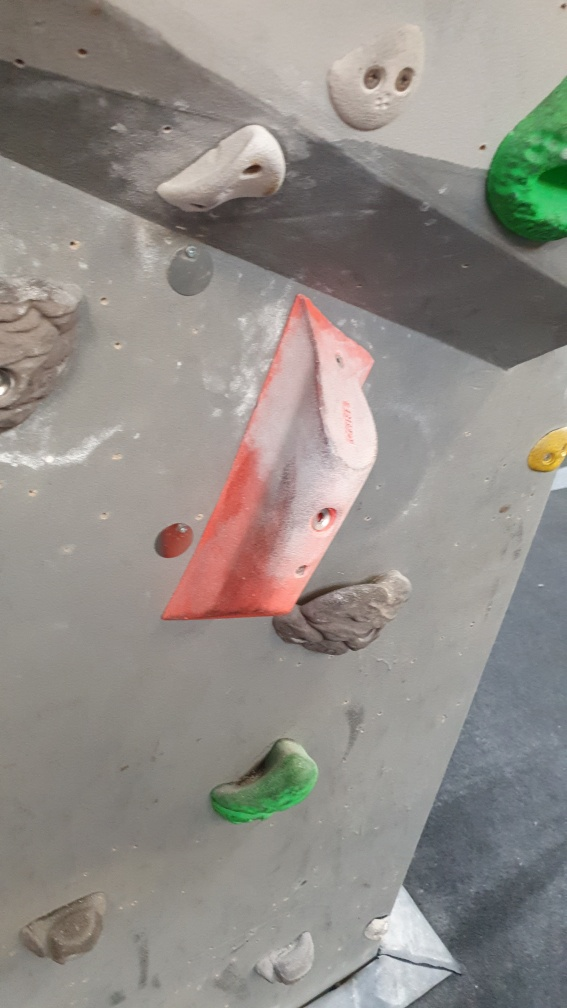Hand Start: (166, 238, 215, 300), (151, 519, 199, 562)
Jug: (266, 566, 417, 663), (206, 731, 324, 825), (253, 932, 323, 987)
Pinch: (156, 290, 381, 632)
